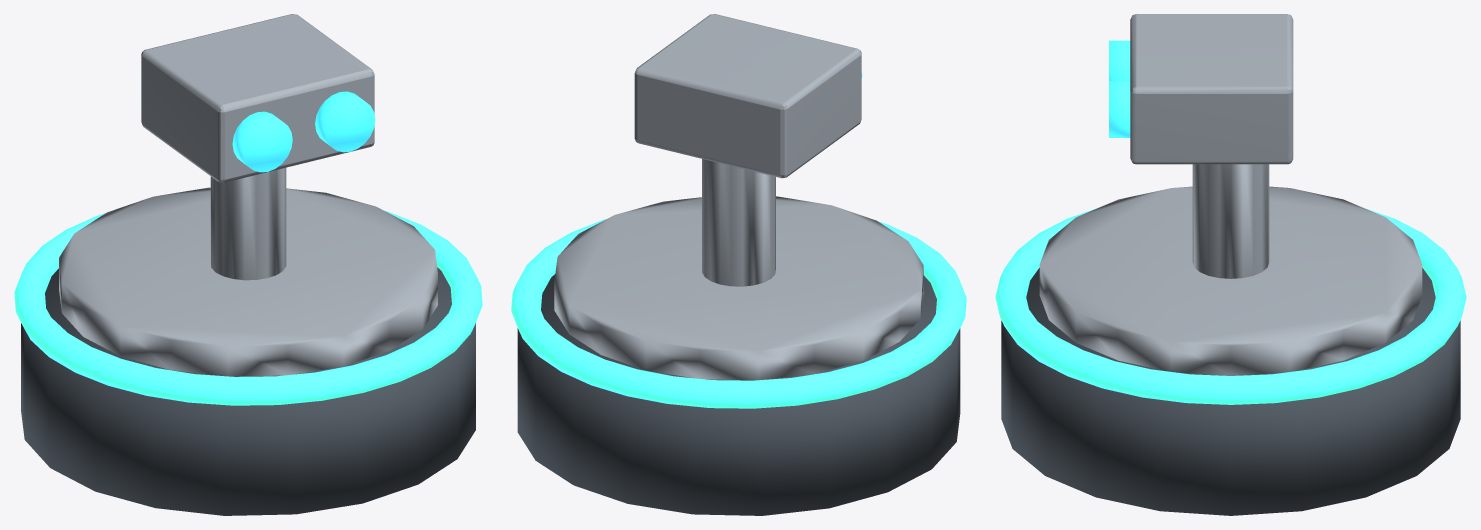
The model's file is edr.glb.
3 views of the same model, side by side, from view 1: azimuth 30°, elevation 25°; view 2: azimuth 150°, elevation 25°; view 3: azimuth 270°, elevation 25° (orthographic). The views are drawn at different scales.
Visible parts, largest first — view 1: body_steel.182, body_dark.173, head_steel.037, body_green.006, head_blue.020; view 2: body_steel.182, body_dark.173, head_steel.037, body_green.006; view 3: body_steel.182, body_dark.173, head_steel.037, body_green.006, head_blue.020.
Boxes of the visible parts, <box> form: body_steel.182: <box>59,167,437,376</box>; body_dark.173: <box>21,267,475,515</box>; head_steel.037: <box>141,14,374,182</box>; body_green.006: <box>14,210,482,405</box>; head_blue.020: <box>232,91,375,172</box>; body_steel.182: <box>554,159,923,380</box>; body_dark.173: <box>517,274,960,515</box>; head_steel.037: <box>634,14,861,178</box>; body_green.006: <box>511,219,966,408</box>; body_steel.182: <box>1039,164,1422,375</box>; body_dark.173: <box>1001,268,1460,515</box>; head_steel.037: <box>1130,14,1293,164</box>; body_green.006: <box>995,208,1466,404</box>; head_blue.020: <box>1109,40,1130,137</box>.
Bounding box in the file's own units: 0.4922 × 0.425 × 0.4922.
